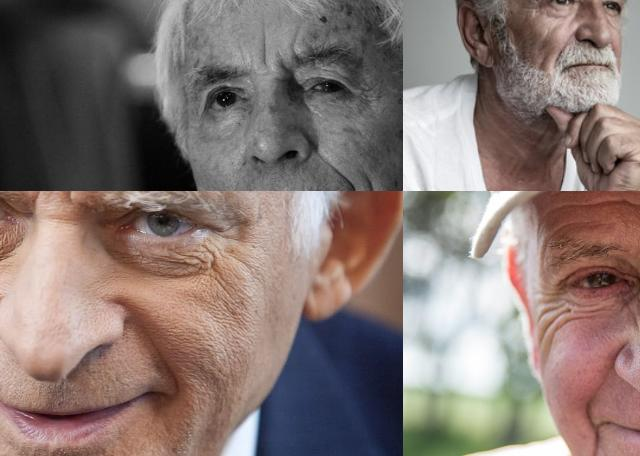crows_feet: (204, 216, 236, 262), (540, 286, 570, 328)
forehead: (564, 191, 628, 216), (542, 218, 568, 242)
frown_line: (258, 42, 270, 68), (61, 191, 80, 205)
gummy_smile: (156, 346, 186, 394), (321, 159, 358, 191)
masseter: (361, 176, 385, 191)
sad_smile: (578, 399, 603, 456)
